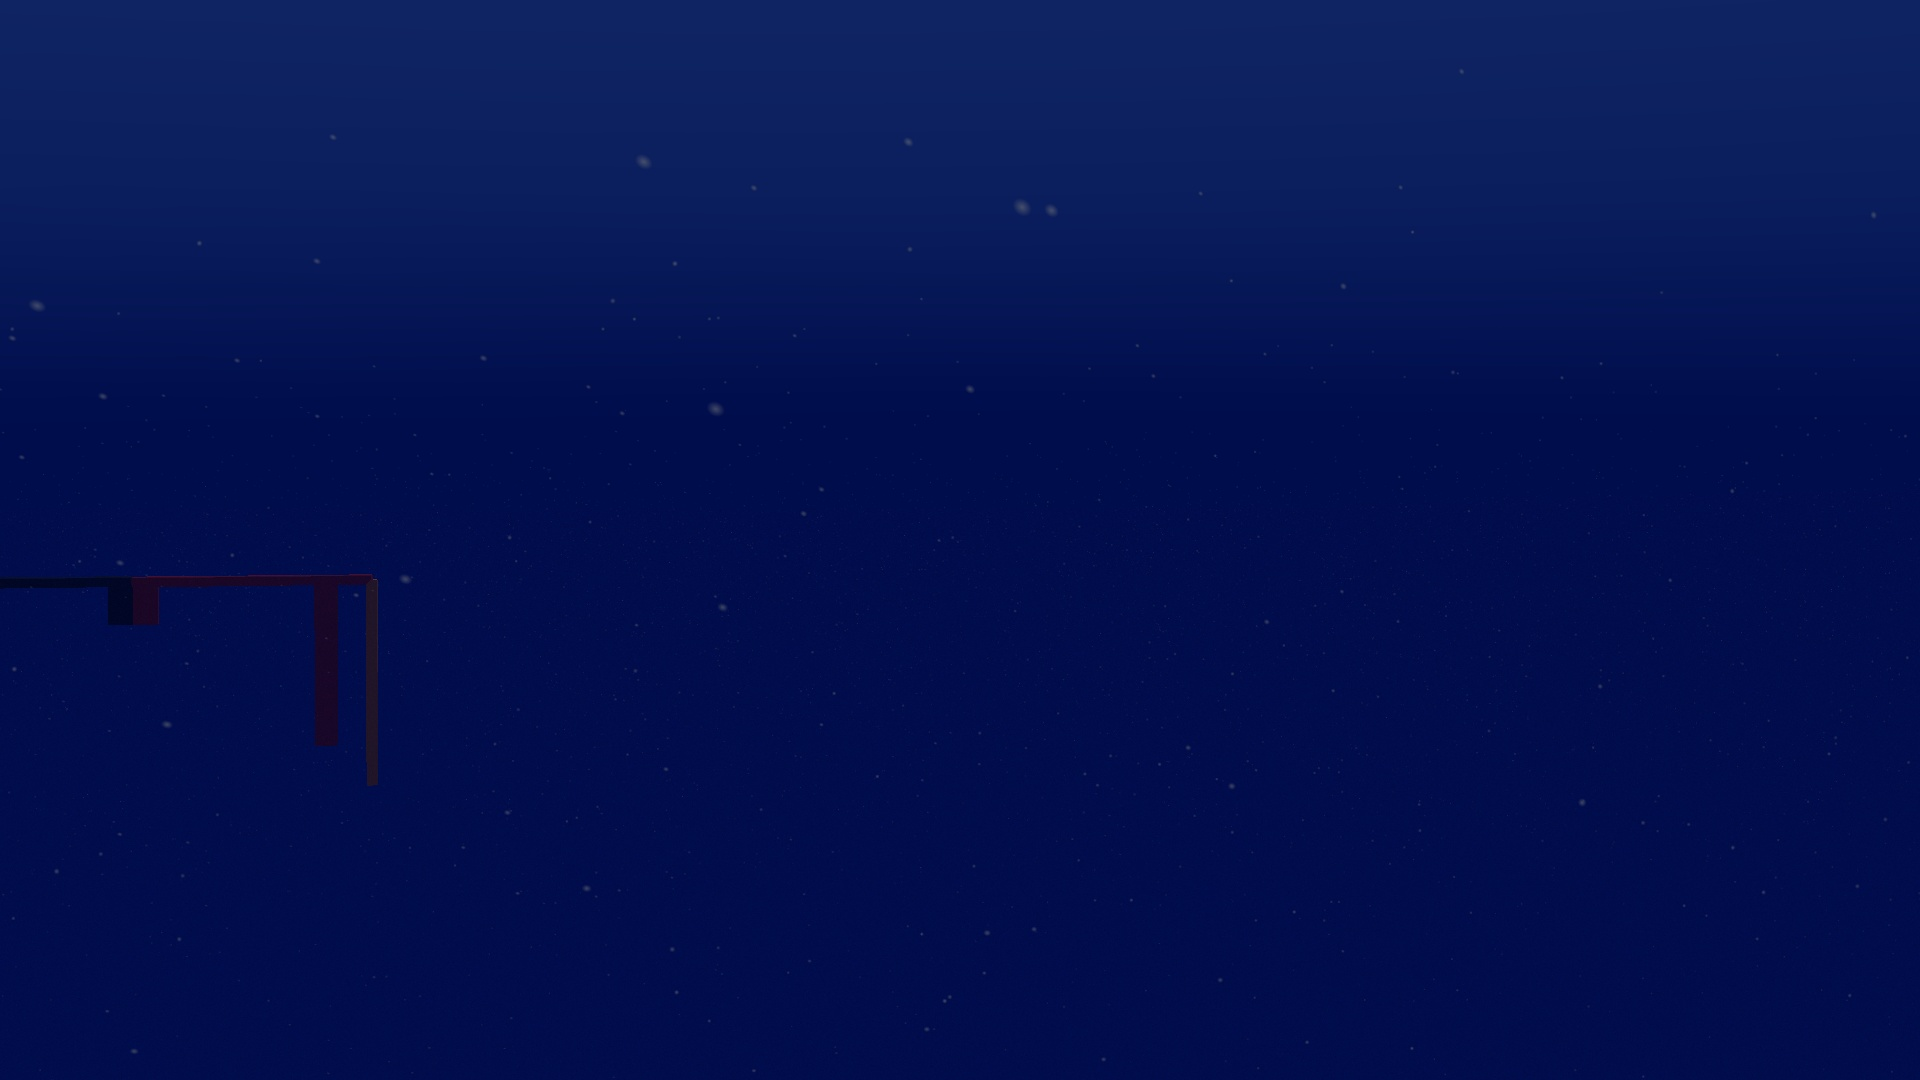Gate: (1, 568, 390, 800)
